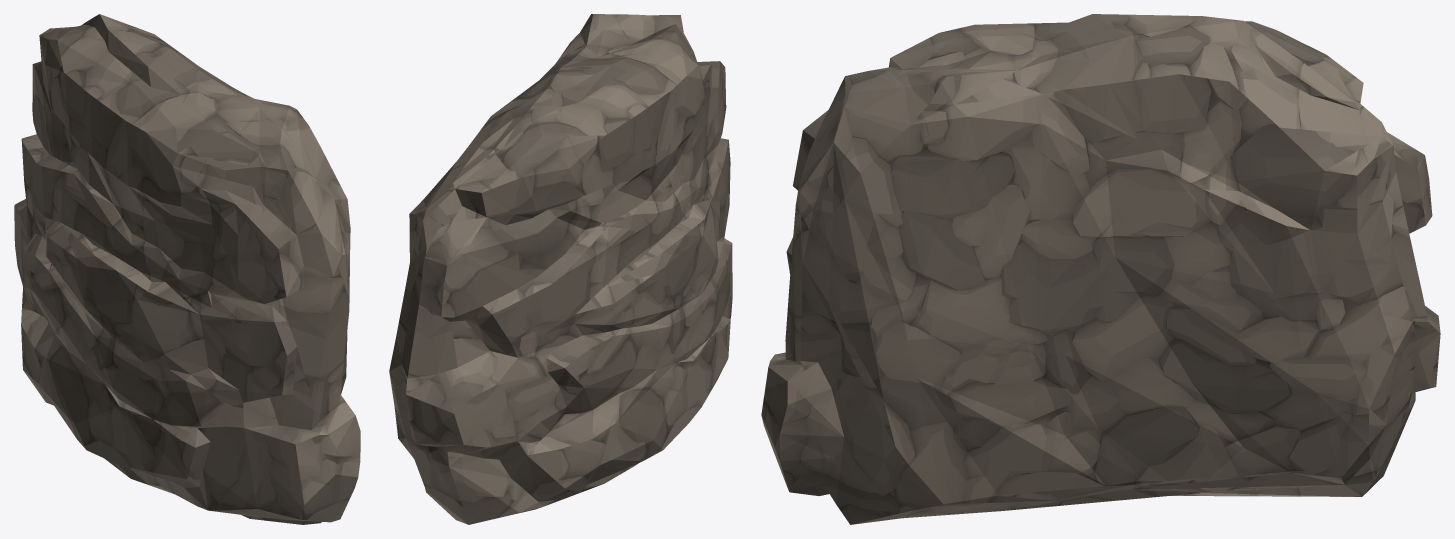
File: source.gltf
3 views of the same model, side by side, from view 1: azimuth 30°, elevation 25°; view 2: azimuth 150°, elevation 25°; view 3: azimuth 270°, elevation 25° (orthographic). The views are drawn at different scales.
Visible parts, largest first — view 1: SM_Rock_Wall_02; view 2: SM_Rock_Wall_02; view 3: SM_Rock_Wall_02.
Part boxes in pixels (box(x1,y1,x2,y2)): SM_Rock_Wall_02: box(14, 14, 360, 524); SM_Rock_Wall_02: box(389, 14, 732, 524); SM_Rock_Wall_02: box(761, 14, 1440, 524).
Size of the model in its own units: 1.56 by 3.59 by 4.62.
Materials: 1 (1 with a texture image).
